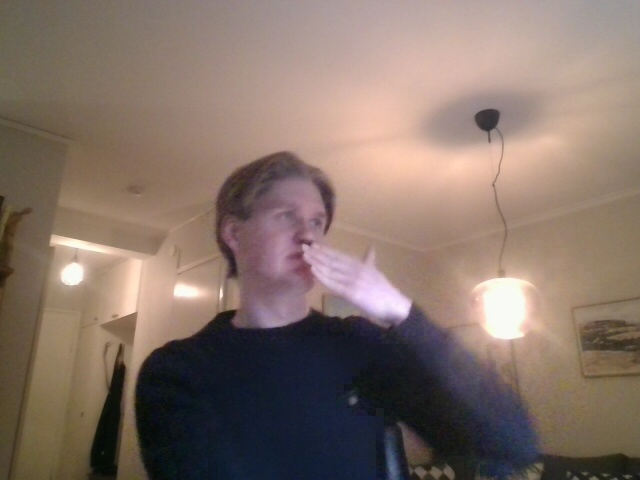ThankYou: (284, 243, 394, 323)
